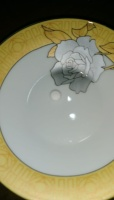Yuvarlak Buskopan: (49, 89, 62, 101)
